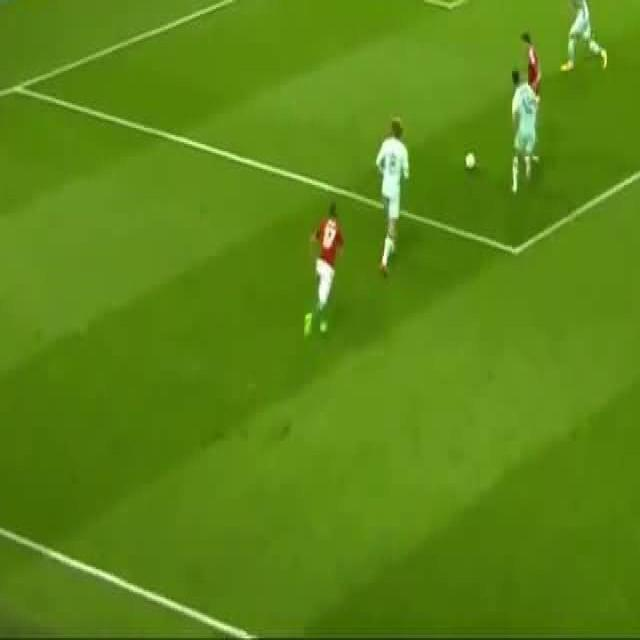ball: (466, 151, 476, 169)
player-white: (303, 200, 345, 336), (376, 118, 410, 276), (511, 68, 537, 200), (560, 0, 608, 71), (520, 29, 542, 165)
